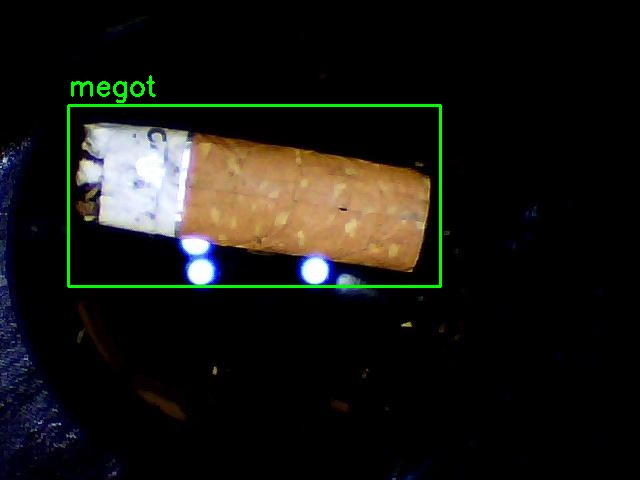megot: (68, 105, 440, 286)
